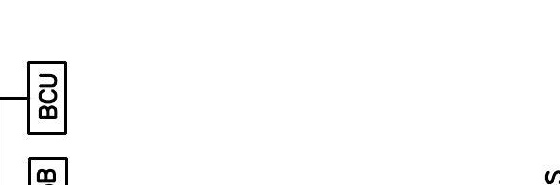BCU: (26, 60, 68, 136)
